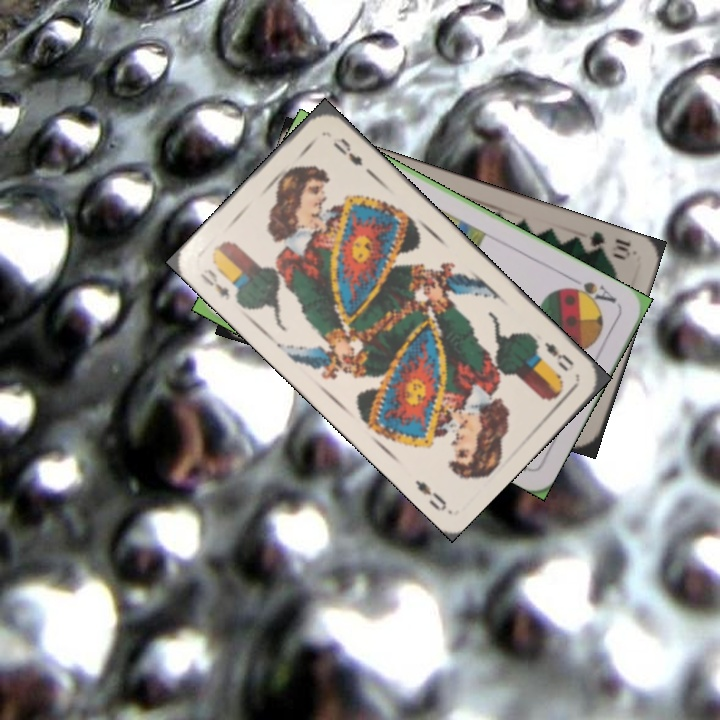EO: (531, 335, 577, 375), (196, 264, 233, 303)
G10: (576, 227, 633, 263)
SA: (562, 273, 619, 309)
